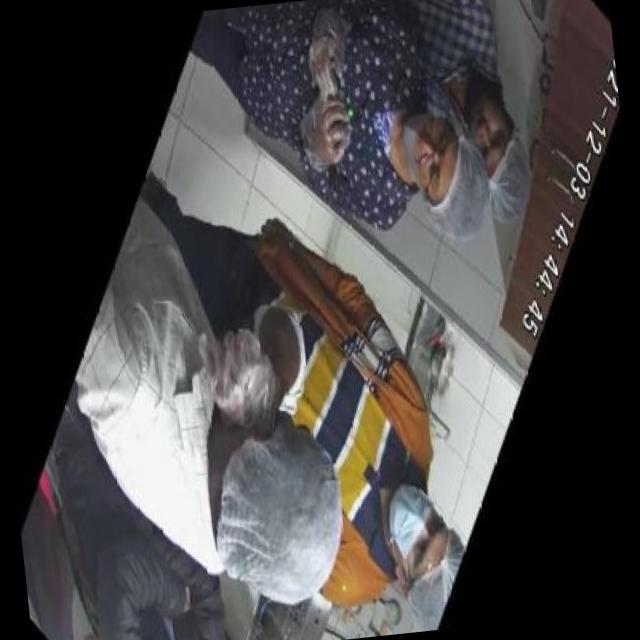hairnet: (215, 431, 348, 602), (210, 328, 280, 426), (424, 140, 489, 238), (406, 532, 470, 616), (488, 134, 534, 224)
